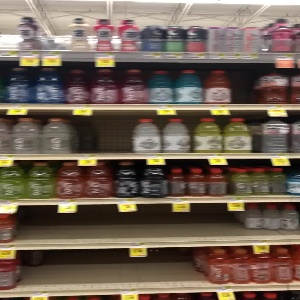void: (18, 201, 243, 244), (17, 243, 205, 294), (82, 106, 133, 156), (232, 63, 263, 110)
